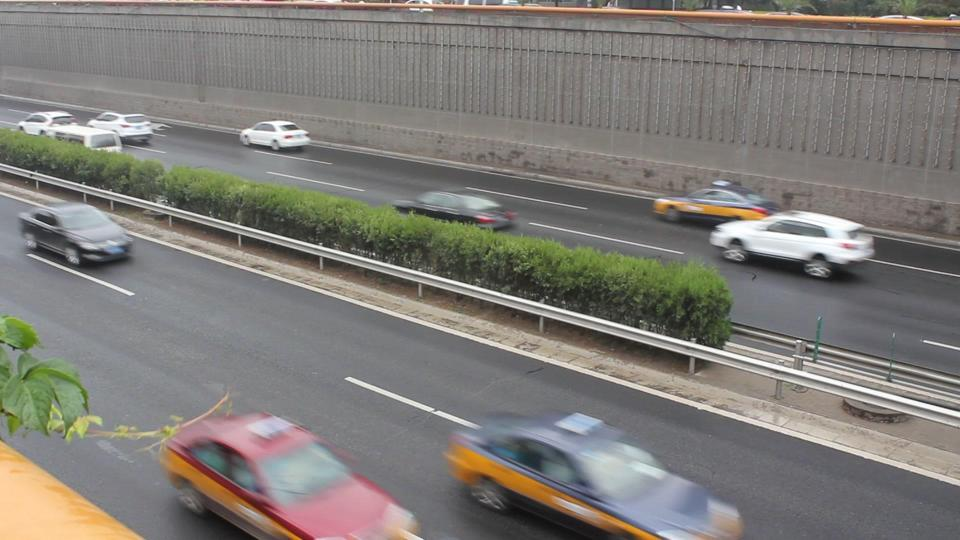car: (442, 410, 742, 540), (159, 411, 425, 540), (709, 209, 877, 281), (13, 196, 135, 267), (391, 190, 520, 233), (650, 184, 781, 226), (17, 114, 120, 149), (86, 111, 155, 146), (239, 120, 310, 151), (18, 110, 81, 136)
